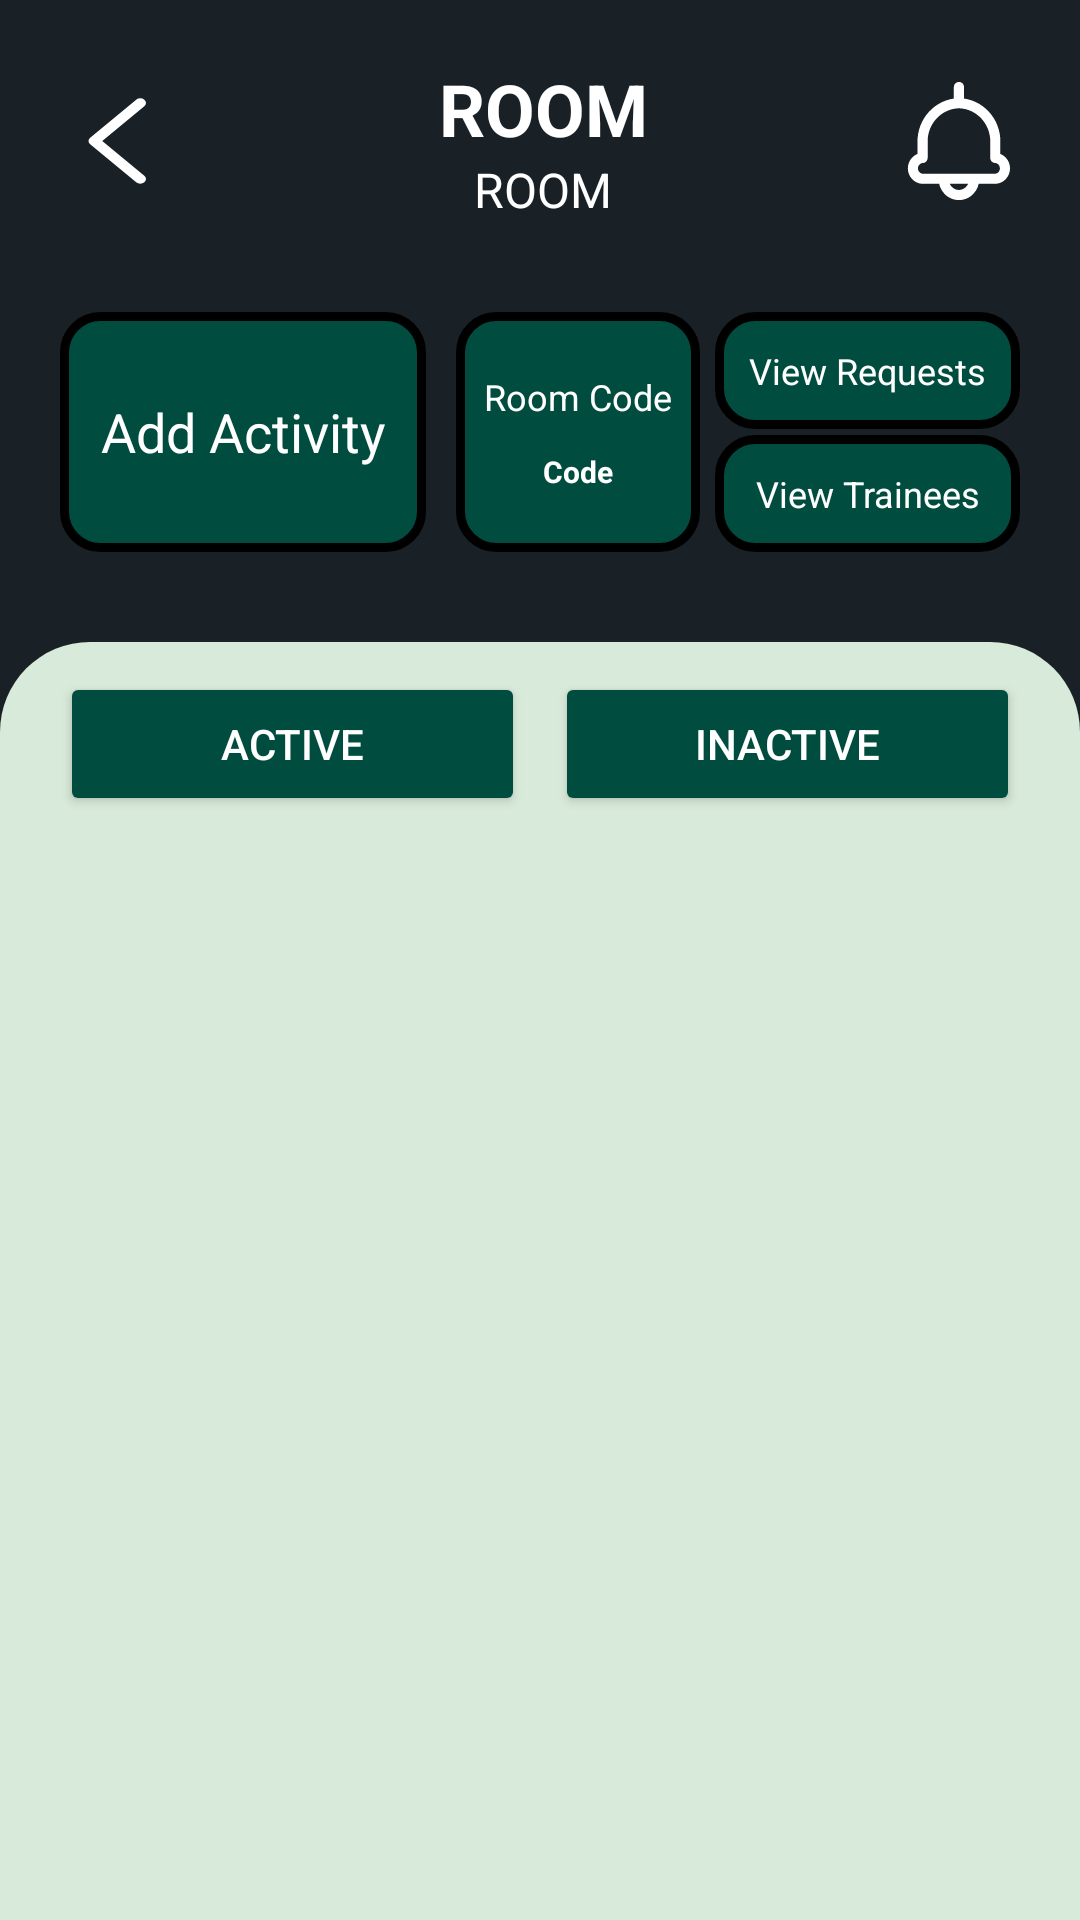

Where to tap for icons on this 1080*1920 app screen, as (x=x, y=y):
Back: (x=117, y=141)
notification: (x=958, y=141)
